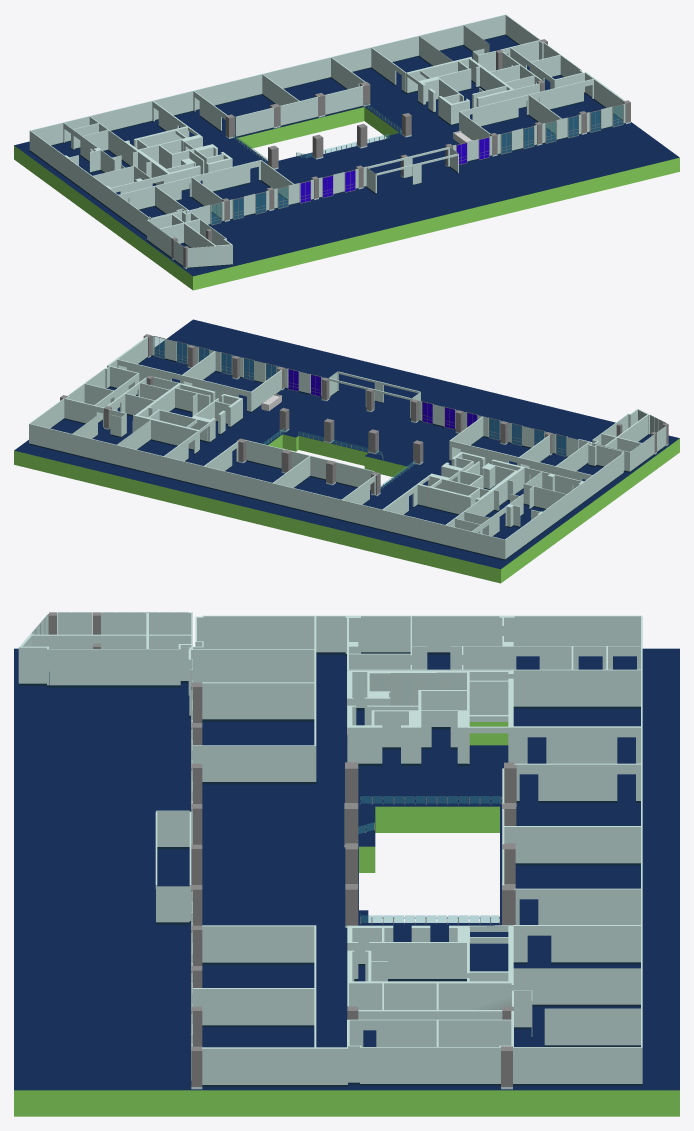
Rendered from 1F_Floor.fbx.
The picture shows the model from 3 angles, top to bottom: view 1: azimuth 30°, elevation 25°; view 2: azimuth 150°, elevation 25°; view 3: azimuth 270°, elevation 25°; orthographic projection. The views are drawn at different scales.
Visible parts, largest first — view 1: 1_Floor, Room_02, Room_01, 1F_EV_02, 1F_EV_01, Center_Pillar_1F, 1F_Pillar, Window_A_01, Window_A, Window_A_02, 1F_Front_Door_Wall, 1F_Fence_A; view 2: 1_Floor, Room_02, Room_01, 1F_EV_02, 1F_EV_01, 1F_Pillar, Center_Pillar_1F, Window_A_01, Window_A, Window_A_02, 1F_Front_Door_Wall, 1F_Fence_A; view 3: 1_Floor, Room_02, Room_01, 1F_EV_01, 1F_EV_02, 1F_Pillar, Center_Pillar_1F, 1F_Fence_A, Elevator_Wall.
Boxes of the visible parts, x1=… form: 1_Floor: x1=14, y1=35, x2=679, y2=290; Room_02: x1=30, y1=14, x2=625, y2=201; Room_01: x1=29, y1=130, x2=492, y2=268; 1F_EV_02: x1=406, y1=58, x2=514, y2=125; 1F_EV_01: x1=126, y1=126, x2=232, y2=191; Center_Pillar_1F: x1=225, y1=82, x2=411, y2=169; 1F_Pillar: x1=171, y1=39, x2=630, y2=268; Window_A_01: x1=501, y1=104, x2=623, y2=154; Window_A: x1=300, y1=137, x2=489, y2=203; Window_A_02: x1=211, y1=186, x2=288, y2=225; 1F_Front_Door_Wall: x1=367, y1=147, x2=457, y2=185; 1F_Fence_A: x1=233, y1=103, x2=401, y2=162; 1_Floor: x1=14, y1=319, x2=679, y2=583; Room_02: x1=29, y1=335, x2=581, y2=560; Room_01: x1=284, y1=368, x2=666, y2=560; 1F_EV_02: x1=136, y1=383, x2=242, y2=450; 1F_EV_01: x1=417, y1=452, x2=523, y2=505; 1F_Pillar: x1=60, y1=334, x2=668, y2=455; Center_Pillar_1F: x1=236, y1=408, x2=423, y2=496; Window_A_01: x1=154, y1=336, x2=276, y2=380; Window_A: x1=288, y1=368, x2=477, y2=429; Window_A_02: x1=489, y1=417, x2=566, y2=456; 1F_Front_Door_Wall: x1=329, y1=371, x2=419, y2=409; 1F_Fence_A: x1=262, y1=428, x2=415, y2=488; 1_Floor: x1=14, y1=648, x2=679, y2=1116; Room_02: x1=191, y1=616, x2=642, y2=1086; Room_01: x1=18, y1=612, x2=642, y2=932; 1F_EV_01: x1=347, y1=671, x2=510, y2=765; 1F_EV_02: x1=347, y1=925, x2=511, y2=1019; 1F_Pillar: x1=49, y1=612, x2=513, y2=1089; Center_Pillar_1F: x1=344, y1=762, x2=516, y2=927; 1F_Fence_A: x1=357, y1=796, x2=501, y2=924; Elevator_Wall: x1=421, y1=710, x2=458, y2=749.
Bounding box in the file's own units: 79.16 × 5.4 × 50.46.
